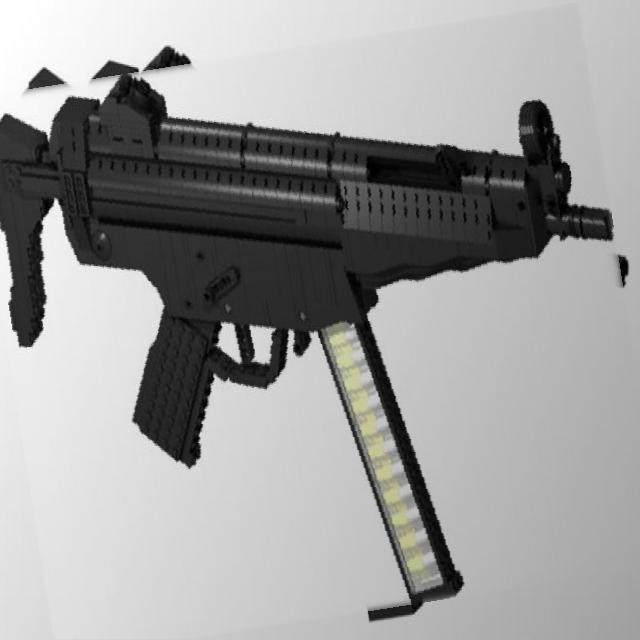gun: (0, 24, 640, 638)
